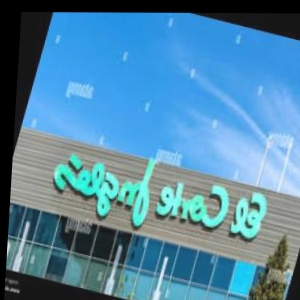corte_ingles: (256, 77, 296, 204)
